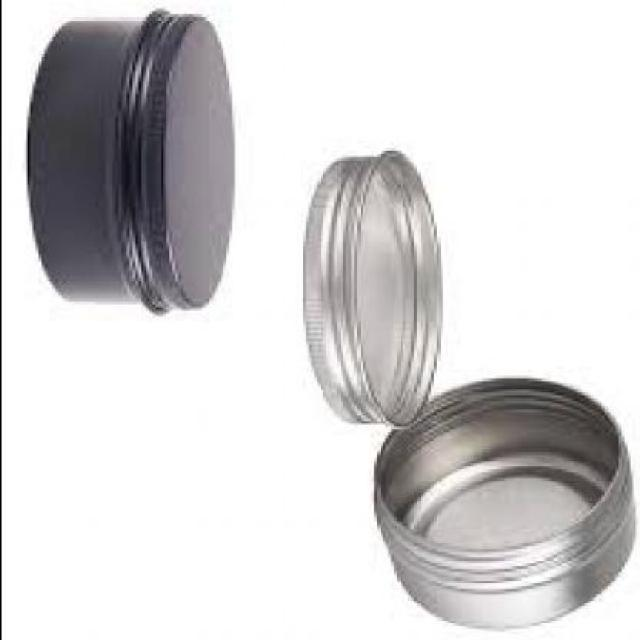METAL: (378, 381, 637, 637), (29, 12, 236, 316), (305, 154, 443, 432)
